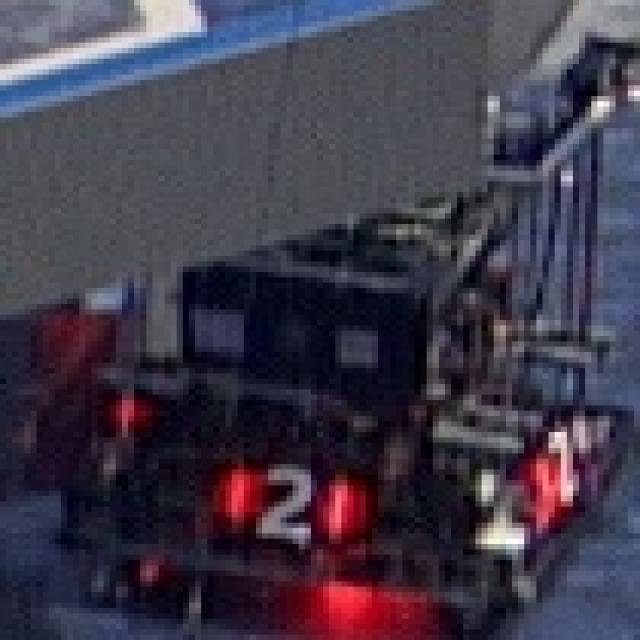R2: (201, 453, 372, 555), (518, 421, 585, 523)
